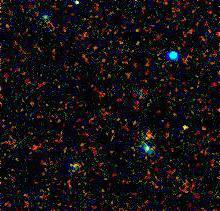star: (170, 114, 200, 144)
